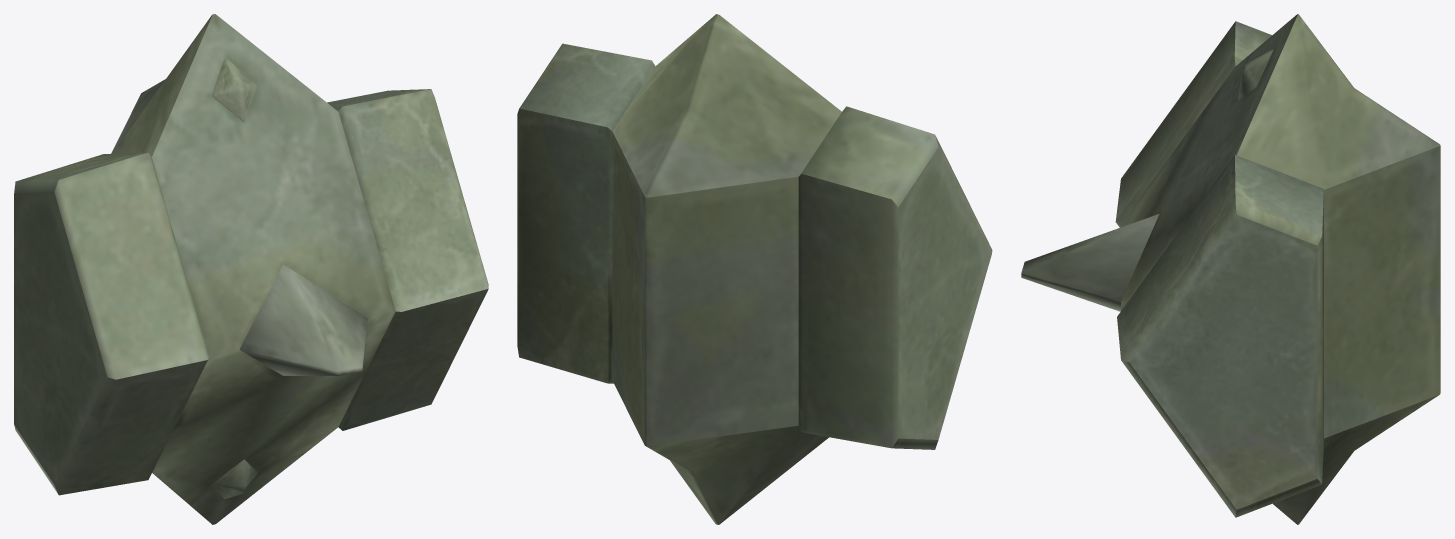
File: Ruins_Trim_Cap_4M_B.fbx
3 views of the same model, side by side, from view 1: azimuth 30°, elevation 25°; view 2: azimuth 150°, elevation 25°; view 3: azimuth 270°, elevation 25° (orthographic).
Parts seen in each view (by area): view 1: Ruins_Trim_Cap_4M_B; view 2: Ruins_Trim_Cap_4M_B; view 3: Ruins_Trim_Cap_4M_B.
Boxes of the visible parts, left/top/right/bottom form: Ruins_Trim_Cap_4M_B: left=14, top=14, right=488, bottom=524; Ruins_Trim_Cap_4M_B: left=517, top=14, right=992, bottom=524; Ruins_Trim_Cap_4M_B: left=1021, top=14, right=1440, bottom=524.
Size of the model in its own units: 400 by 512 by 382.
